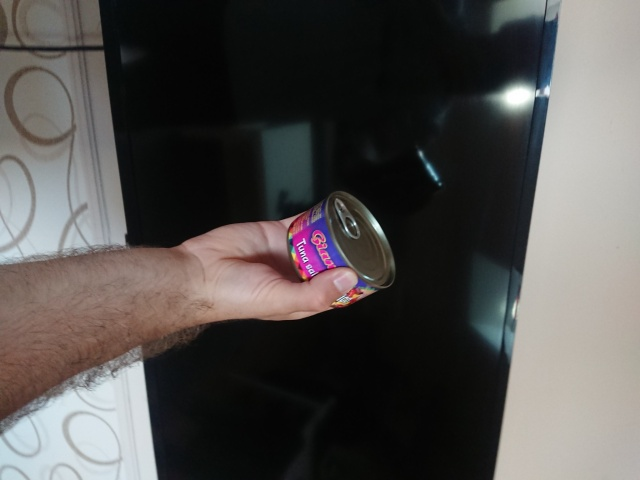Giana Tuna Salad Mexico 185g: (284, 188, 398, 312)
